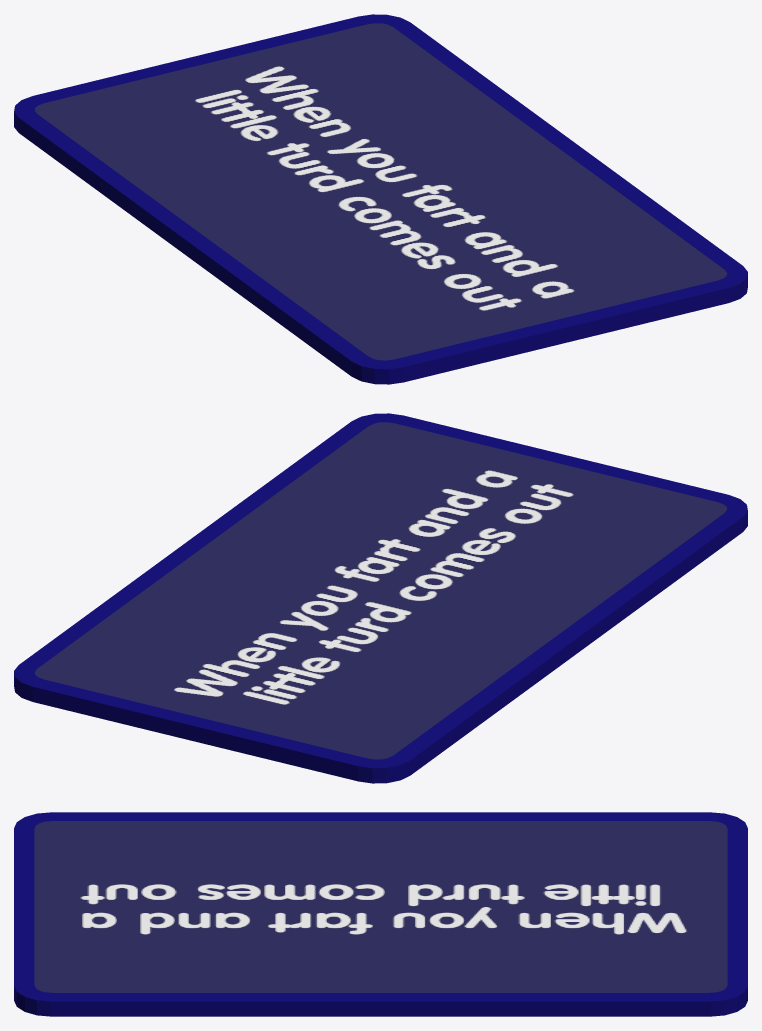
File: Playercard (3).fbx
3 renders of one model, top to bottom at view 1: azimuth 30°, elevation 25°; view 2: azimuth 150°, elevation 25°; view 3: azimuth 270°, elevation 25°, orthographic.
Parts seen in each view (by area): view 1: Card.001; view 2: Card.001; view 3: Card.001.
Part boxes in pixels (<box>): Card.001: <box>14,14,747,384</box>; Card.001: <box>14,413,747,783</box>; Card.001: <box>14,812,747,1016</box>.
Bounding box in the file's own units: 165 × 271 × 6.16.
